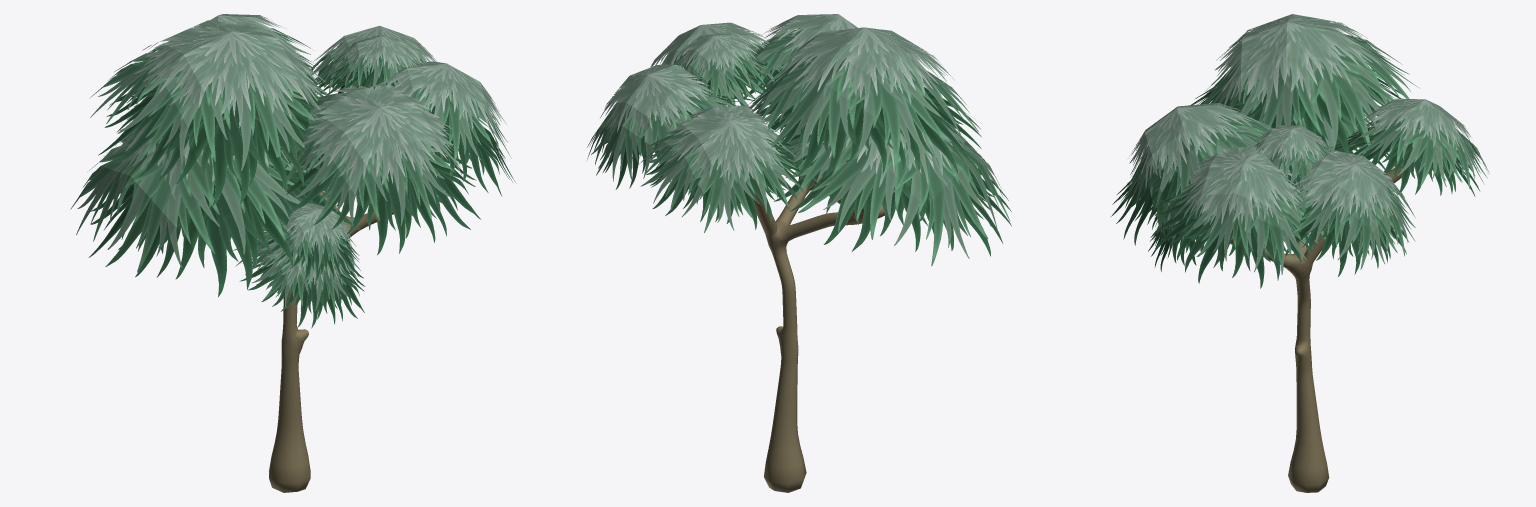
The model's file is Gumtree_001.fbx.
3 views of the same model, side by side, from view 1: azimuth 30°, elevation 25°; view 2: azimuth 150°, elevation 25°; view 3: azimuth 270°, elevation 25° (orthographic). The views are drawn at different scales.
Parts seen in each view (by area): view 1: Medium_Leaf_Top.001, Light_Leaf_Top.002, Light_Leaf_Top.006, Medium_Leaf_Top.002, Dark_Leaf_Top.002, Dark_Leaf_Top.001, Medium_Leaf_Top.006, Dark_Leaf_Top.006, Gumtree_001, Light_Leaf_Top.005, Dark_Leaf_Top.007, Medium_Leaf_Top.005 (+13 smaller); view 2: Medium_Leaf_Top.001, Medium_Leaf_Top.002, Gumtree_001, Light_Leaf_Top.002, Medium_Leaf_Top.003, Light_Leaf_Top.003, Dark_Leaf_Top.002, Light_Leaf_Top.004, Dark_Leaf_Top.001, Medium_Leaf_Top.004, Dark_Leaf_Top.003, Light_Leaf_Top.009 (+8 smaller); view 3: Light_Leaf_Top.002, Medium_Leaf_Top.002, Light_Leaf_Top.005, Gumtree_001, Light_Leaf_Top.006, Medium_Leaf_Top.005, Light_Leaf_Top.004, Medium_Leaf_Top.004, Medium_Leaf_Top.003, Dark_Leaf_Top.005, Medium_Leaf_Top.006, Light_Leaf_Top.003 (+8 smaller).
Boxes of the visible parts, left/top/right/bottom form: Medium_Leaf_Top.001: left=70, top=132, right=309, bottom=272; Light_Leaf_Top.002: left=134, top=20, right=325, bottom=127; Light_Leaf_Top.006: left=300, top=84, right=458, bottom=193; Medium_Leaf_Top.002: left=90, top=40, right=327, bottom=170; Dark_Leaf_Top.002: left=98, top=84, right=327, bottom=206; Dark_Leaf_Top.001: left=88, top=148, right=361, bottom=297; Medium_Leaf_Top.006: left=272, top=89, right=461, bottom=226; Dark_Leaf_Top.006: left=277, top=146, right=480, bottom=255; Gumtree_001: left=269, top=191, right=393, bottom=492; Light_Leaf_Top.005: left=378, top=61, right=506, bottom=138; Dark_Leaf_Top.007: left=239, top=238, right=365, bottom=328; Medium_Leaf_Top.005: left=368, top=77, right=511, bottom=160; Medium_Leaf_Top.001: left=782, top=122, right=1010, bottom=266; Medium_Leaf_Top.002: left=746, top=53, right=978, bottom=171; Gumtree_001: left=753, top=83, right=884, bottom=492; Light_Leaf_Top.002: left=773, top=27, right=954, bottom=109; Medium_Leaf_Top.003: left=639, top=120, right=799, bottom=232; Light_Leaf_Top.003: left=666, top=105, right=784, bottom=188; Dark_Leaf_Top.002: left=752, top=87, right=981, bottom=179; Light_Leaf_Top.004: left=600, top=64, right=717, bottom=142; Dark_Leaf_Top.001: left=774, top=134, right=1011, bottom=256; Medium_Leaf_Top.004: left=587, top=85, right=733, bottom=182; Dark_Leaf_Top.003: left=646, top=138, right=819, bottom=229; Light_Leaf_Top.009: left=676, top=33, right=756, bottom=77; Light_Leaf_Top.002: left=1211, top=14, right=1382, bottom=113; Medium_Leaf_Top.002: left=1202, top=33, right=1419, bottom=150; Light_Leaf_Top.005: left=1181, top=146, right=1307, bottom=232; Gumtree_001: left=1176, top=163, right=1401, bottom=492; Light_Leaf_Top.006: left=1129, top=103, right=1260, bottom=187; Medium_Leaf_Top.005: left=1169, top=164, right=1326, bottom=274; Light_Leaf_Top.004: left=1287, top=150, right=1398, bottom=226; Medium_Leaf_Top.004: left=1292, top=171, right=1415, bottom=269; Medium_Leaf_Top.003: left=1350, top=114, right=1489, bottom=188; Dark_Leaf_Top.005: left=1150, top=184, right=1325, bottom=288; Medium_Leaf_Top.006: left=1122, top=114, right=1272, bottom=207; Light_Leaf_Top.003: left=1356, top=98, right=1470, bottom=153.
Size of the model in its own units: 1562 by 1759 by 1528.
